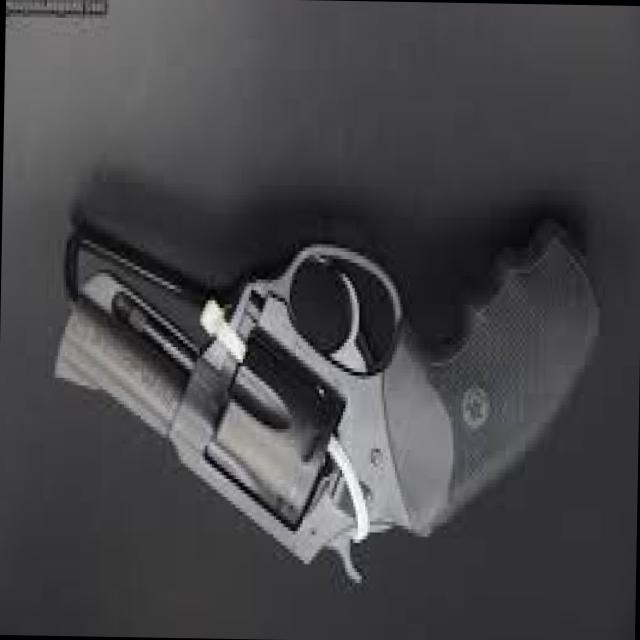Gun: (34, 113, 626, 603)
